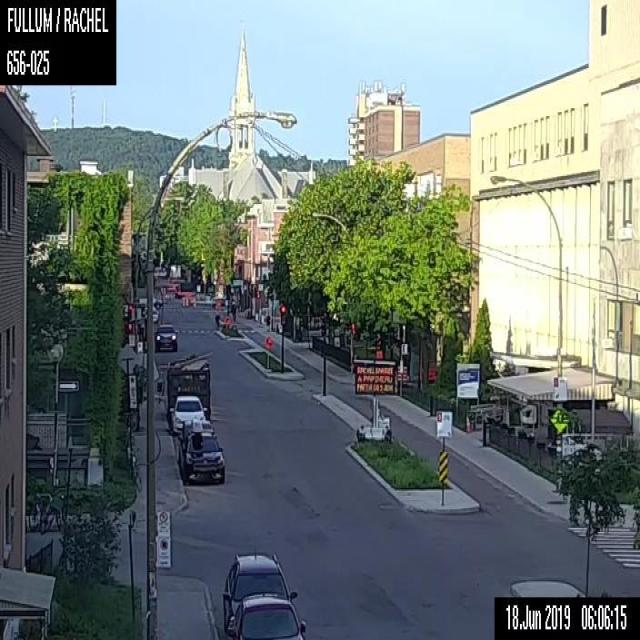construction: (353, 358, 396, 441), (263, 333, 273, 348), (428, 367, 436, 379), (402, 366, 407, 382), (397, 365, 400, 380), (376, 350, 382, 357), (192, 297, 195, 307), (185, 296, 188, 306), (182, 296, 184, 306)
pedestrian: (230, 297, 236, 321), (264, 310, 270, 330), (214, 312, 219, 330)
vehicle: (222, 552, 298, 632), (226, 593, 305, 639), (185, 418, 224, 484), (169, 395, 207, 433), (153, 323, 177, 351), (182, 419, 213, 438)
